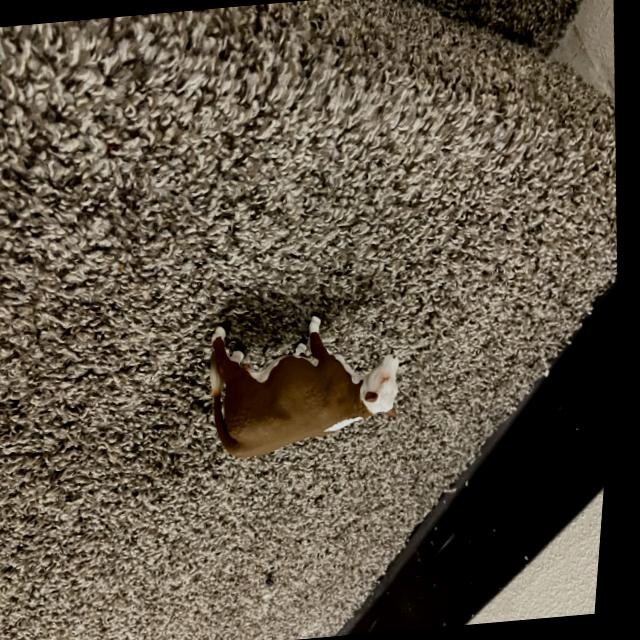cow: (206, 297, 415, 461)
